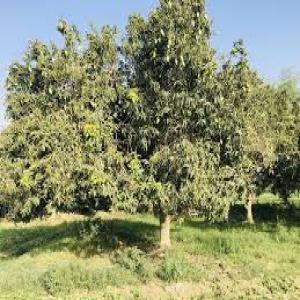Tree: (7, 0, 285, 248)
